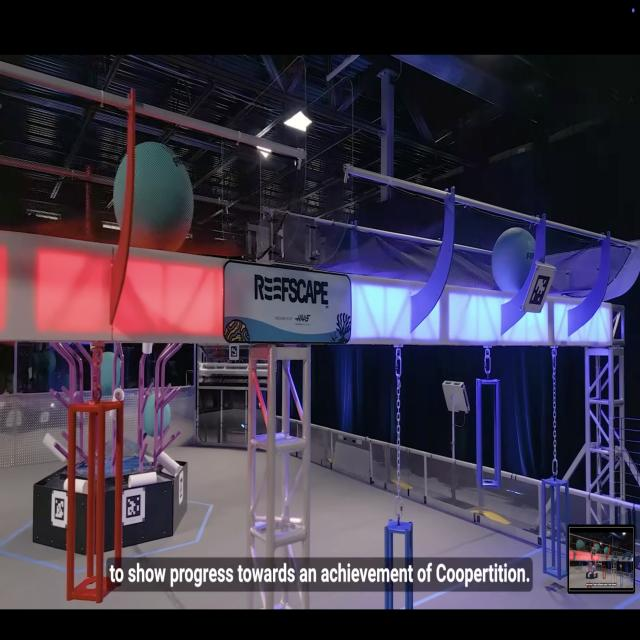algae: (110, 138, 196, 262), (488, 218, 540, 294), (140, 393, 173, 437), (99, 351, 124, 395)
coral: (42, 428, 72, 468), (156, 446, 186, 478), (126, 468, 159, 490), (62, 475, 91, 497)
